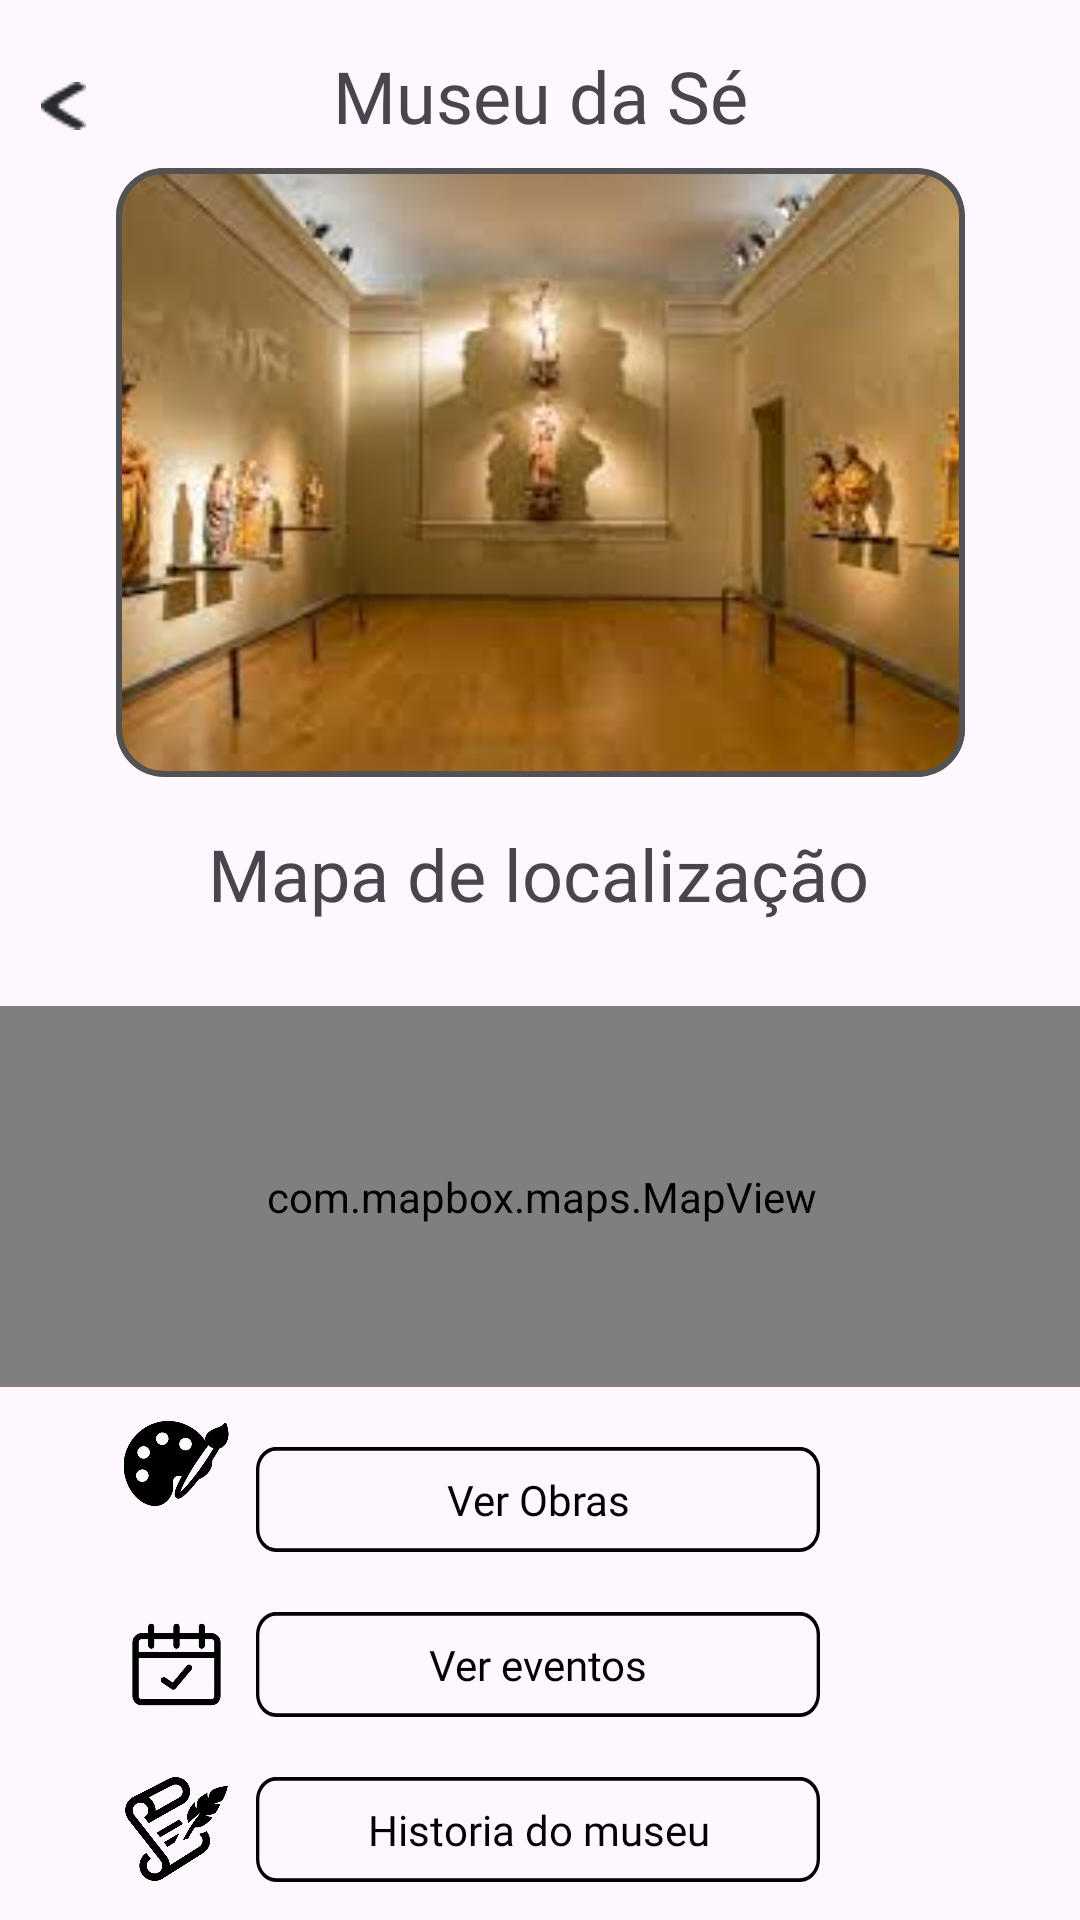

Icon click points for this 1080 × 1920 phone screenshot, format (x,y):
paint: (176,1463)
seta back: (63,106)
